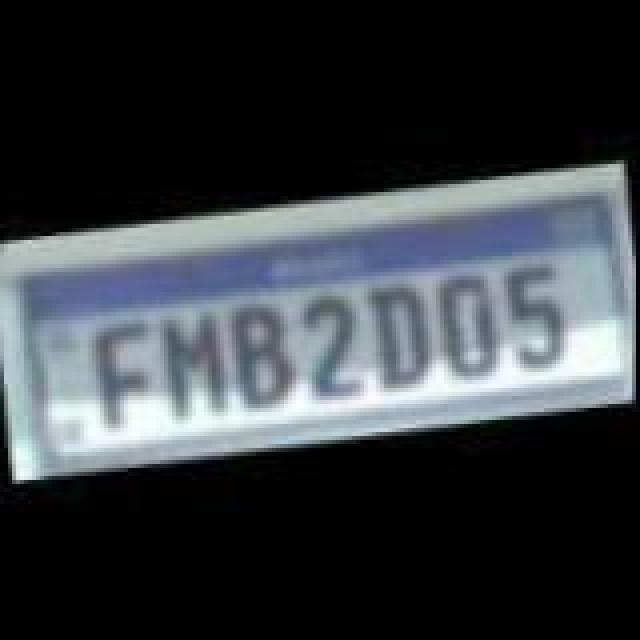2: (292, 284, 372, 400)
5: (490, 252, 574, 372)
B: (218, 292, 298, 412)
D: (426, 260, 510, 388), (358, 268, 434, 388)
F: (80, 306, 164, 434)
M: (148, 304, 240, 420)
